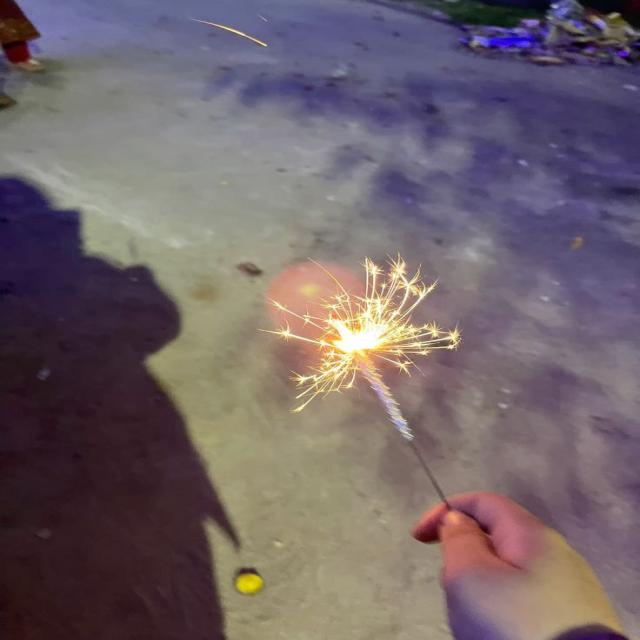fire: (328, 320, 388, 349)
